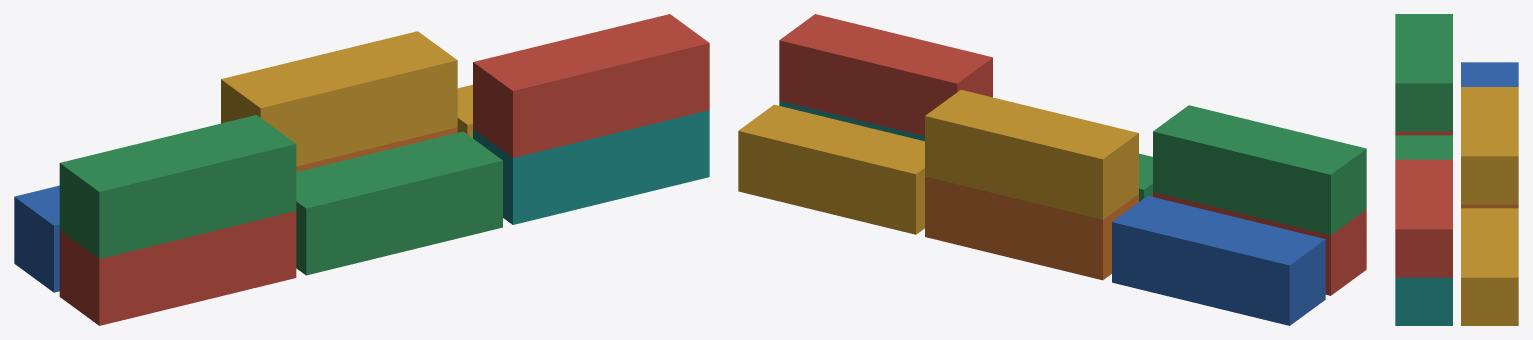
Rendered from stack.glb.
The picture shows the model from 3 angles, left to right: view 1: azimuth 30°, elevation 25°; view 2: azimuth 150°, elevation 25°; view 3: azimuth 270°, elevation 25°; orthographic projection. The views are drawn at different scales.
Visible parts, largest first — view 1: stack; view 2: stack; view 3: stack.
Part boxes in pixels (left/top/right/bottom): stack: left=14, top=14, right=709, bottom=325; stack: left=738, top=14, right=1366, bottom=325; stack: left=1395, top=14, right=1518, bottom=325.
Size of the model in its own units: 12.4 by 2.6 by 3.
